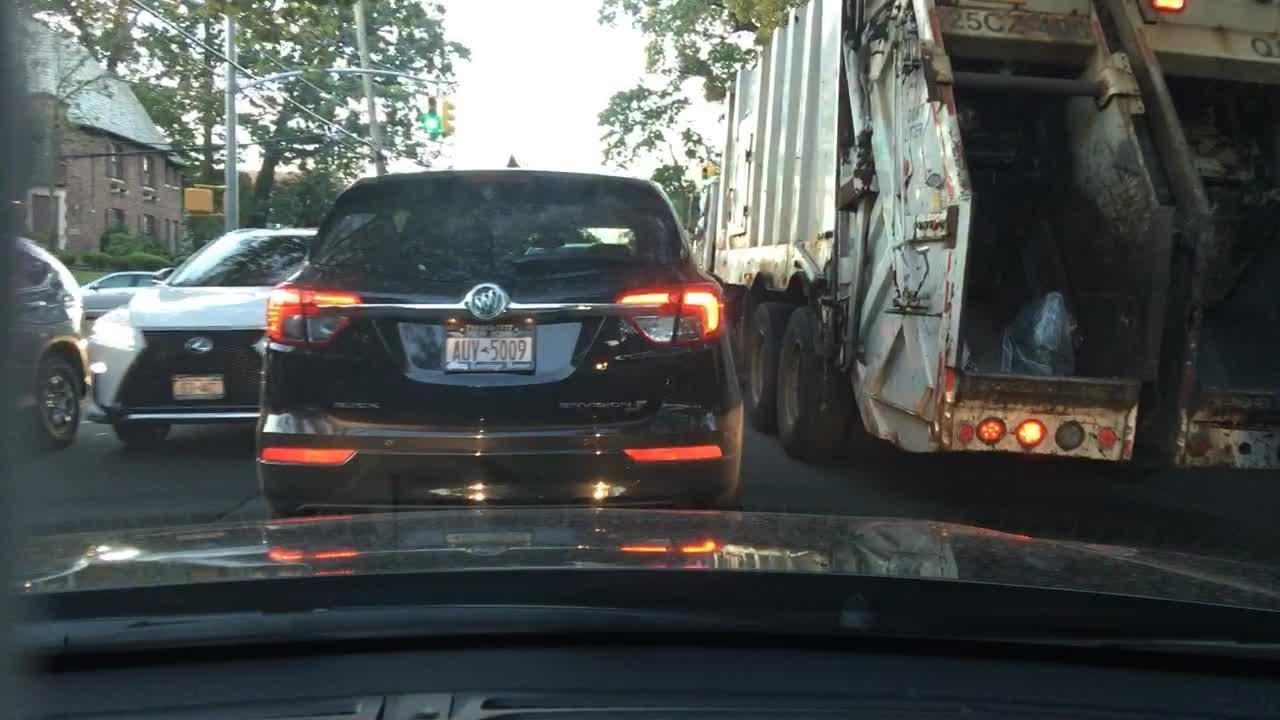lexus: (182, 332, 216, 362)
no class: (462, 279, 513, 331)
